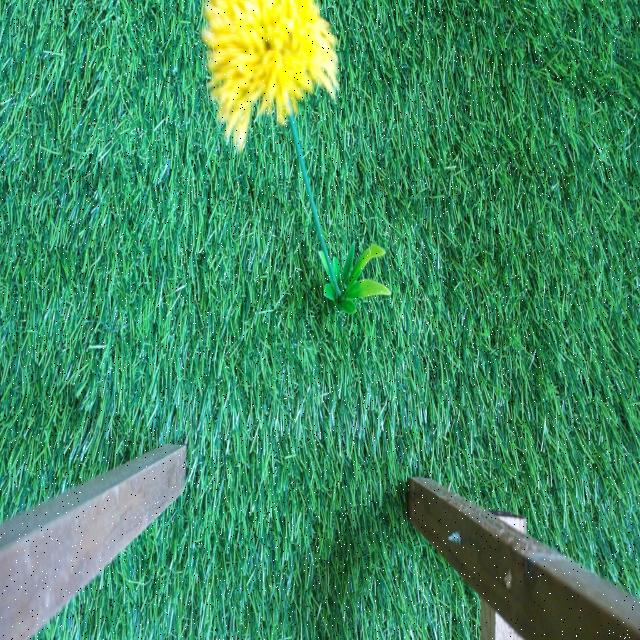base: (318, 246, 392, 312)
flower: (202, 0, 337, 146)
